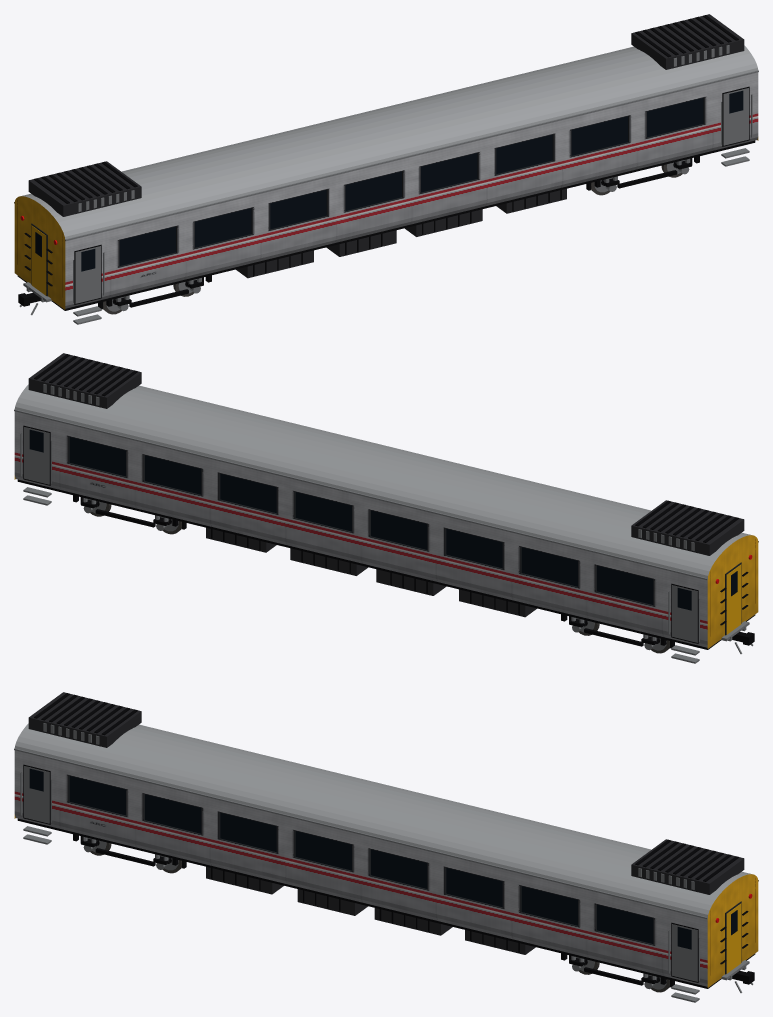
The model's file is cnr_arc.glb.
3 views of the same model, one above another, from view 1: azimuth 30°, elevation 25°; view 2: azimuth 150°, elevation 25°; view 3: azimuth 330°, elevation 25° (orthographic).
Parts seen in each view (by area): view 1: CNR_ARC; view 2: CNR_ARC; view 3: CNR_ARC.
Part boxes in pixels (box(x1,y1,x2,y2)): CNR_ARC: box(14, 14, 758, 324); CNR_ARC: box(14, 353, 758, 663); CNR_ARC: box(14, 692, 758, 1002).
Size of the model in its own units: 24.24 by 4.11 by 3.12.
Materials: 10 (1 with a texture image).
